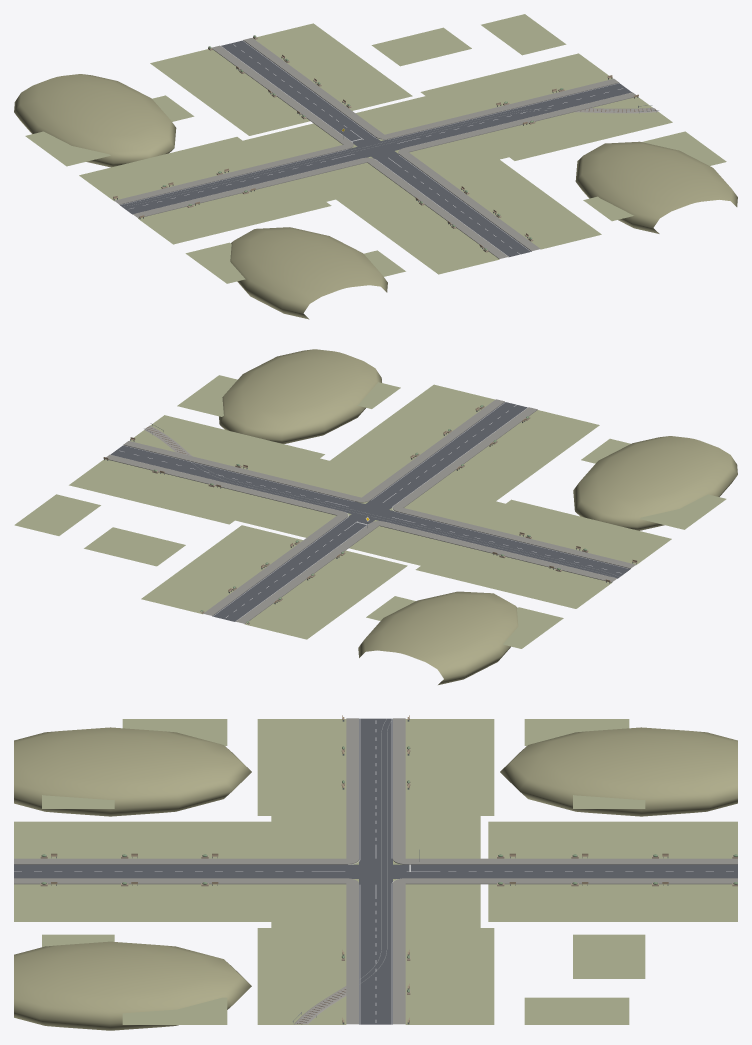
3 views of the same model, one above another, from view 1: azimuth 30°, elevation 25°; view 2: azimuth 150°, elevation 25°; view 3: azimuth 270°, elevation 25° (orthographic). The views are drawn at different scales.
Visible parts, largest first — view 1: static; view 2: static; view 3: static.
Part boxes in pixels (box(x1,y1,x2,y2)): static: box(14, 14, 737, 319); static: box(14, 349, 737, 684); static: box(14, 715, 737, 1030).
Size of what is drawn, in the model's own units: 180 by 14.08 by 180.
3 materials, 2 textured.
